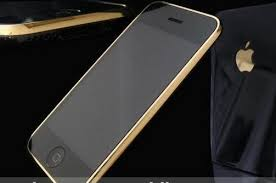iphone: (27, 1, 220, 183)
iphone4: (27, 1, 220, 183)
